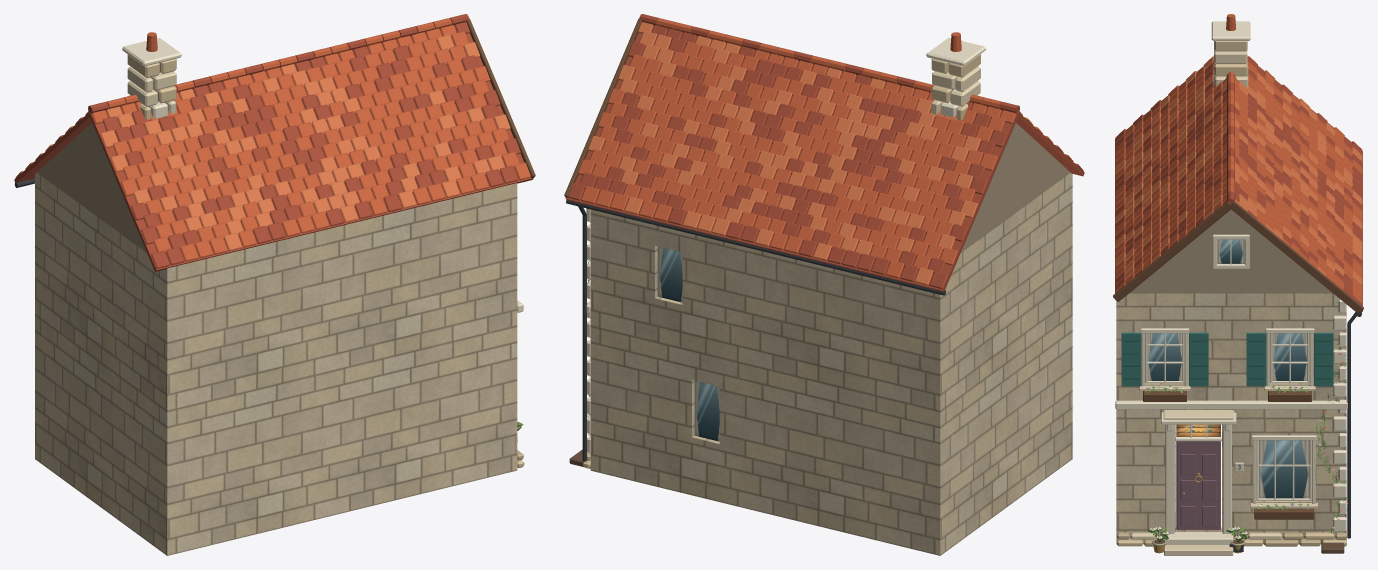
3 renders of one model, left to right at view 1: azimuth 30°, elevation 25°; view 2: azimuth 150°, elevation 25°; view 3: azimuth 270°, elevation 25°, orthographic. The views are drawn at different scales.
Parts seen in each view (by area): view 1: lane_ashlar, lane_terracotta, lane_terracotta_dark, lane_terracotta_light, lane_limestone, lane_limestone_pale, lane_limestone_warm, lane_wood_dark; view 2: lane_ashlar, lane_terracotta, lane_terracotta_dark, lane_terracotta_light, lane_iron, lane_window_pane, lane_limestone_pale, lane_limestone, lane_limestone_warm, lane_wood_dark; view 3: lane_ashlar, lane_terracotta, lane_limestone_pale, lane_terracotta_dark, lane_terracotta_light, lane_window_pane, lane_wood_dark, lane_teal, lane_plum, lane_limestone, lane_limestone_warm, lane_iron (+6 smaller).
Part boxes in pixels (bbox=[...]): lane_ashlar: bbox=[35, 123, 517, 555]; lane_terracotta: bbox=[25, 18, 530, 261]; lane_terracotta_dark: bbox=[14, 14, 533, 271]; lane_terracotta_light: bbox=[45, 35, 510, 250]; lane_limestone: bbox=[127, 66, 517, 442]; lane_limestone_pale: bbox=[122, 37, 523, 312]; lane_limestone_warm: bbox=[127, 54, 524, 468]; lane_wood_dark: bbox=[466, 18, 535, 178]; lane_ashlar: bbox=[590, 123, 1072, 555]; lane_terracotta: bbox=[578, 18, 1053, 278]; lane_terracotta_dark: bbox=[565, 14, 1084, 291]; lane_terracotta_light: bbox=[588, 22, 1043, 285]; lane_iron: bbox=[566, 200, 945, 461]; lane_window_pane: bbox=[657, 246, 719, 441]; lane_limestone_pale: bbox=[586, 37, 985, 453]; lane_limestone: bbox=[931, 66, 980, 114]; lane_limestone_warm: bbox=[583, 54, 980, 468]; lane_wood_dark: bbox=[564, 18, 641, 197]; lane_ashlar: bbox=[1116, 209, 1346, 544]; lane_terracotta: bbox=[1115, 14, 1362, 303]; lane_limestone_pale: bbox=[1115, 21, 1347, 544]; lane_terracotta_dark: bbox=[1115, 56, 1362, 313]; lane_terracotta_light: bbox=[1115, 56, 1362, 284]; lane_window_pane: bbox=[1147, 239, 1309, 498]; lane_wood_dark: bbox=[1113, 201, 1363, 519]; lane_teal: bbox=[1121, 332, 1333, 386]; lane_plum: bbox=[1176, 441, 1220, 530]; lane_limestone: bbox=[1130, 43, 1317, 555]; lane_limestone_warm: bbox=[1117, 41, 1346, 546]; lane_iron: bbox=[1229, 312, 1361, 551].
Bounding box in the file's own units: 8.49 × 9.57 × 5.42.
Materials: 28 (3 with a texture image).
